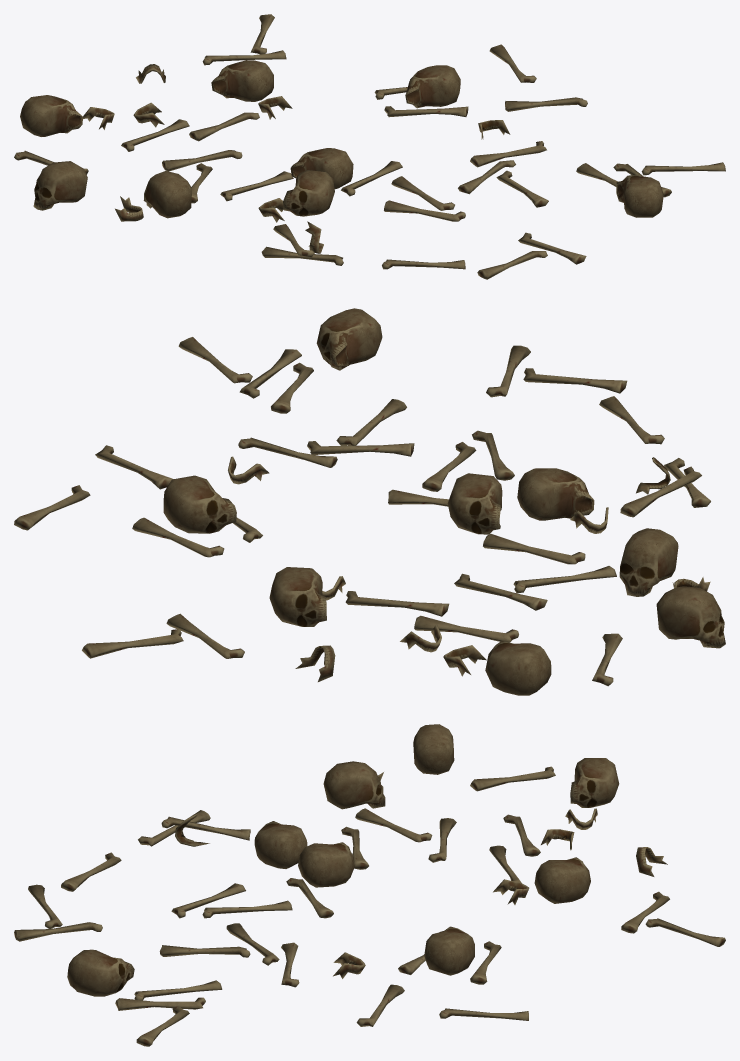
File: BonePile_LOD1.fbx
3 views of the same model, one above another, from view 1: azimuth 30°, elevation 25°; view 2: azimuth 150°, elevation 25°; view 3: azimuth 270°, elevation 25° (orthographic). The views are drawn at different scales.
Visible parts, largest first — view 1: BonePile; view 2: BonePile; view 3: BonePile.
Part boxes in pixels (bbox=[...]): BonePile: bbox=[14, 14, 725, 279]; BonePile: bbox=[14, 308, 725, 695]; BonePile: bbox=[14, 724, 725, 1046].
Bounding box in the file's own units: 2.37 × 0.1582 × 2.43.
